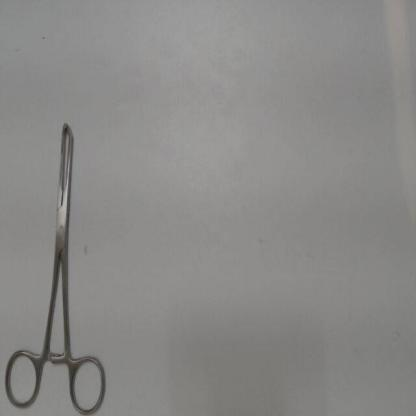Allis Tissue Forceps: (0, 107, 112, 414)
